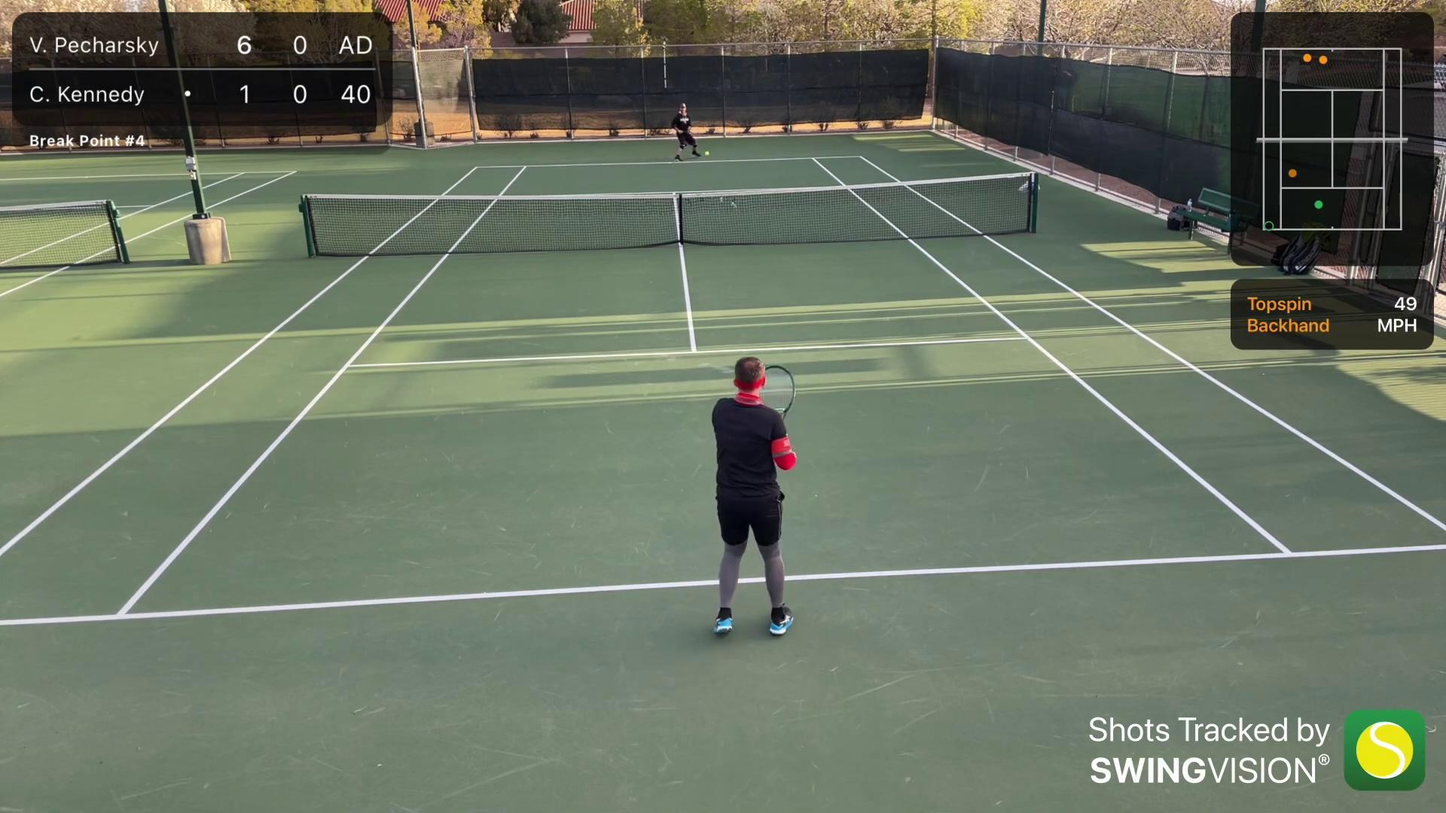ball: (703, 151, 711, 156)
